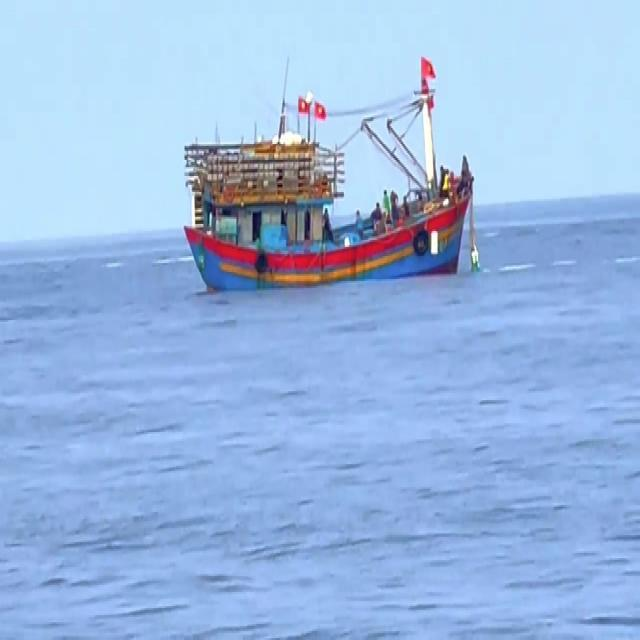Ship: (185, 86, 479, 287)
